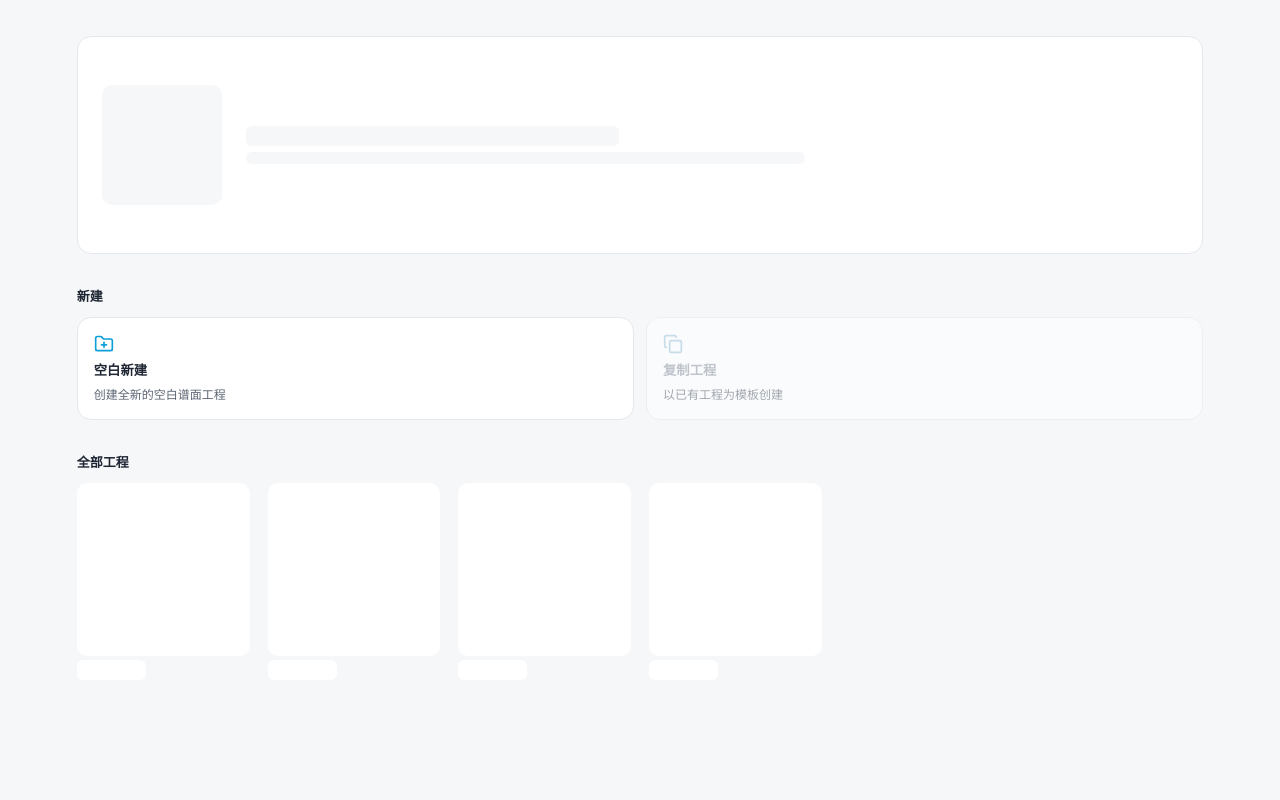
Test: issue 23 #1 · 空白新建后的落点 › 底部主按钮文案已不再是「创建并打开」
Expected: the heading "全部工程" is shown, [77,452,129,471]
What coordinates should you click on to do the following:
click the button "空白新建 创建全新的空白谱面工程"
I would click on:
 (120, 370)
Its box is [77,317,634,420].
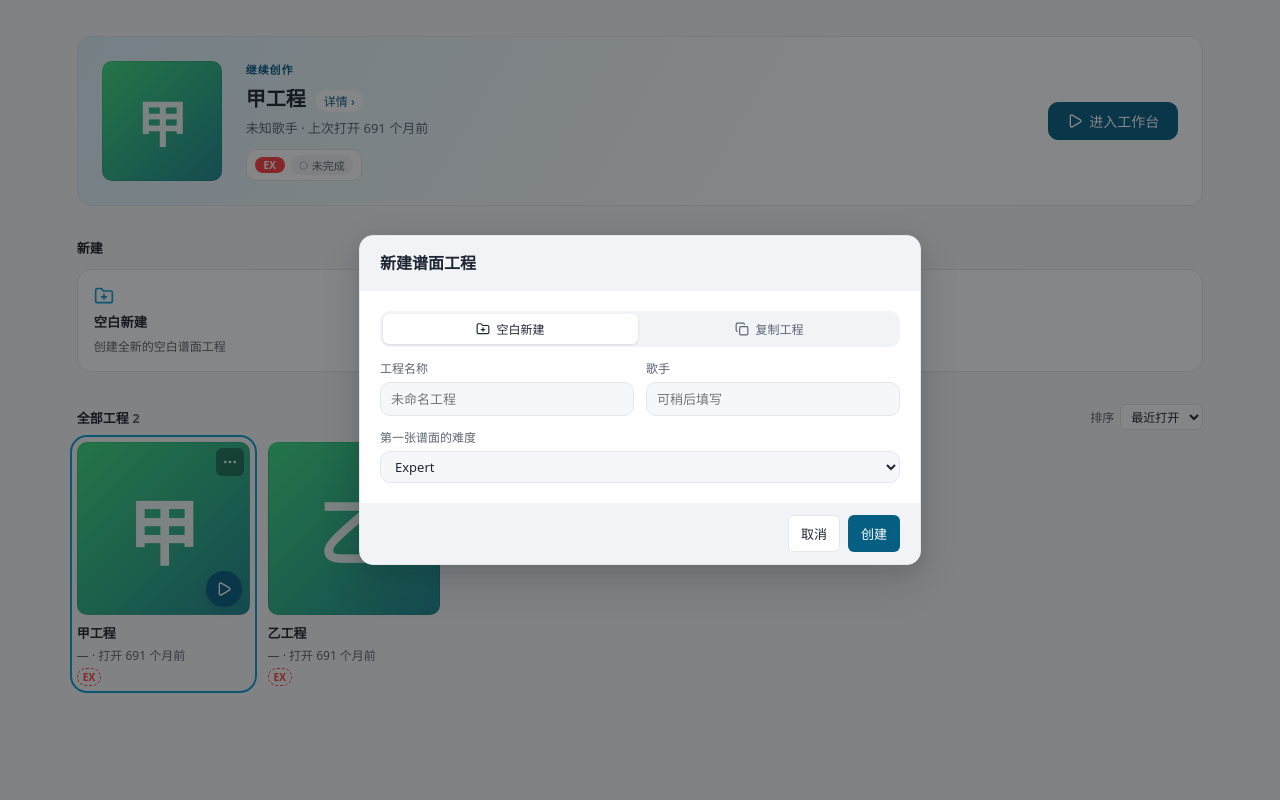
Now the dialog is shown, box [359,235,921,565]
Now the button "创建" is shown, box [848,515,900,552]
